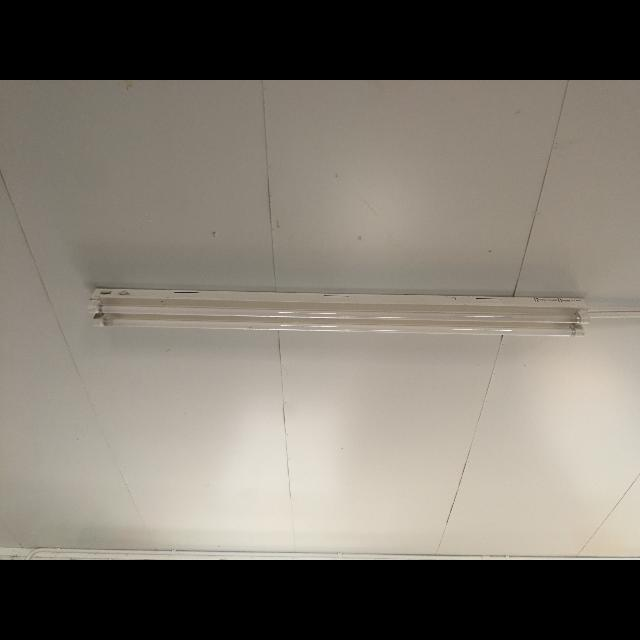Straight-Tube-Fluorescent-Lamp: (80, 276, 606, 354)
